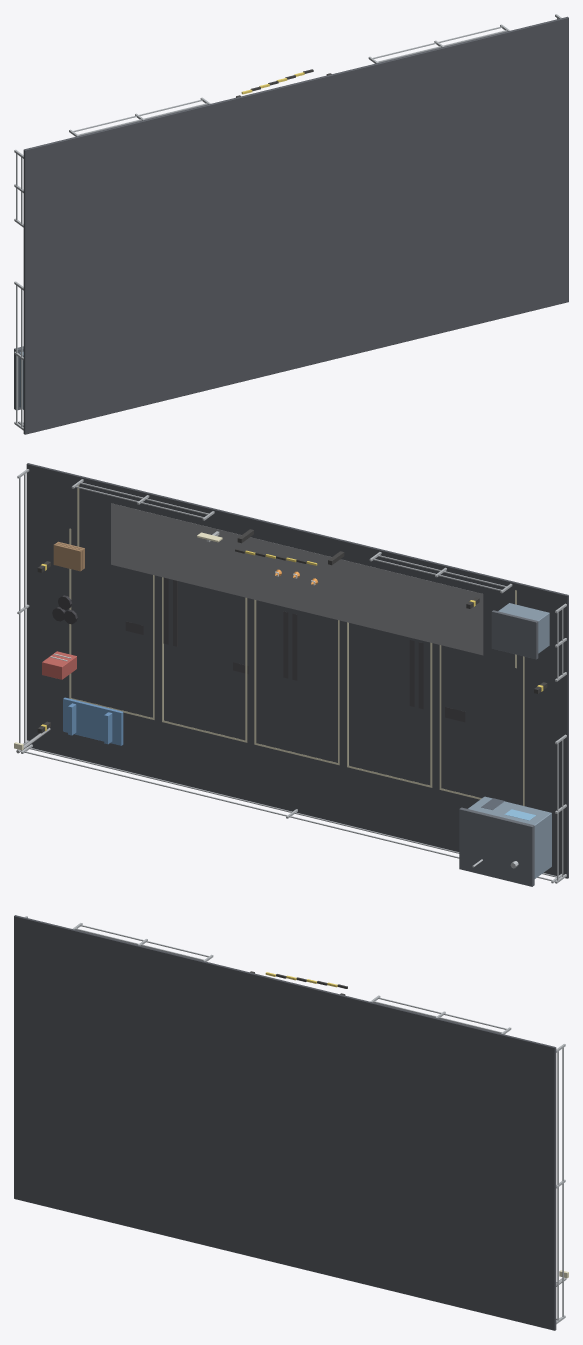
Rendered from parking.fbx.
3 views of the same model, one above another, from view 1: azimuth 30°, elevation 25°; view 2: azimuth 150°, elevation 25°; view 3: azimuth 330°, elevation 25° (orthographic).
Parts seen in each view (by area): view 1: GroundBase; view 2: GroundBase, DrivewayPad_Front, DispatchOffice_Roof, SecurityKiosk_Roof, DispatchOffice, RepairPlatform_Base, Fence_Back_Rail_Upper, Fence_Back_Rail_Lower, SecurityKiosk, ToolCabinet, PalletStack_Level_03, Fence_Right_Rail_Lower (+1 smaller); view 3: GroundBase, Fence_Right_Rail_Upper, Fence_Right_Rail_Lower.
Boxes of the visible parts, <box> form: GroundBase: <box>23,16,568,434</box>; GroundBase: <box>26,463,568,878</box>; DrivewayPad_Front: <box>111,503,483,655</box>; DispatchOffice_Roof: <box>459,807,534,886</box>; SecurityKiosk_Roof: <box>491,610,538,659</box>; DispatchOffice: <box>468,796,551,878</box>; RepairPlatform_Base: <box>63,697,123,745</box>; Fence_Back_Rail_Upper: <box>24,751,552,880</box>; Fence_Back_Rail_Lower: <box>29,747,556,877</box>; SecurityKiosk: <box>498,603,549,653</box>; ToolCabinet: <box>42,651,76,679</box>; PalletStack_Level_03: <box>53,544,81,571</box>; Fence_Right_Rail_Lower: <box>24,474,25,743</box>; GroundBase: <box>14,915,556,1330</box>; Fence_Right_Rail_Upper: <box>562,1047,563,1316</box>; Fence_Right_Rail_Lower: <box>557,1051,558,1320</box>.
Bounding box in the file's own units: 2400 × 1200 × 253.
